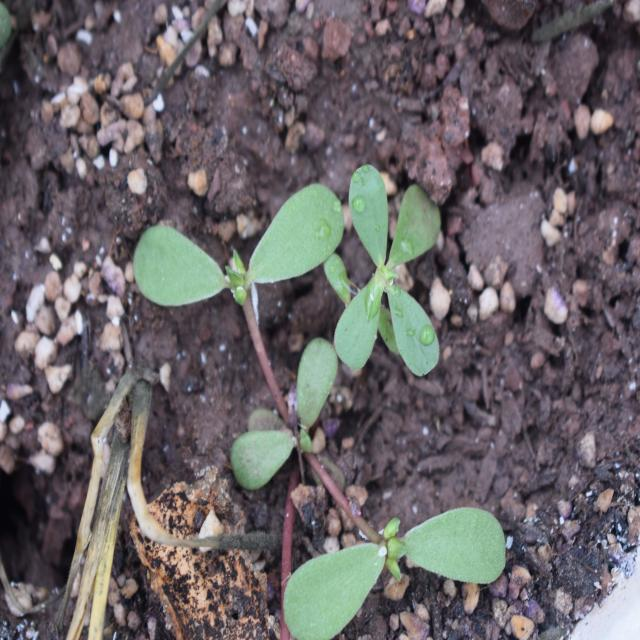purslane: (131, 175, 516, 636)
